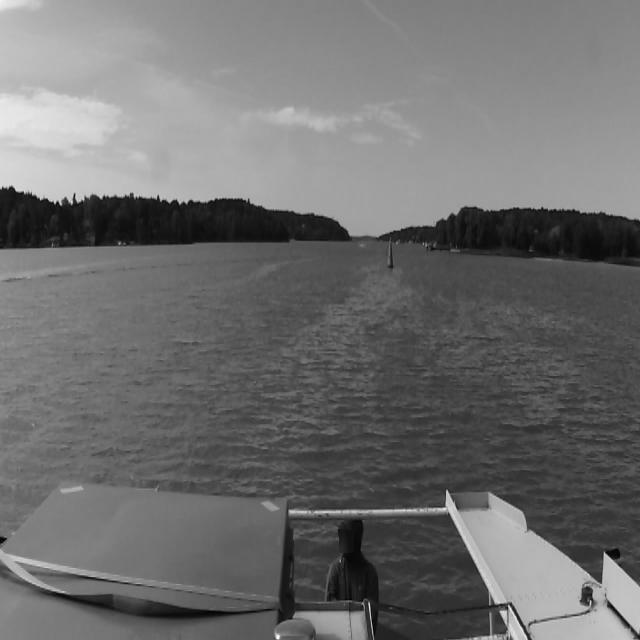buoy: (386, 238, 396, 270)
